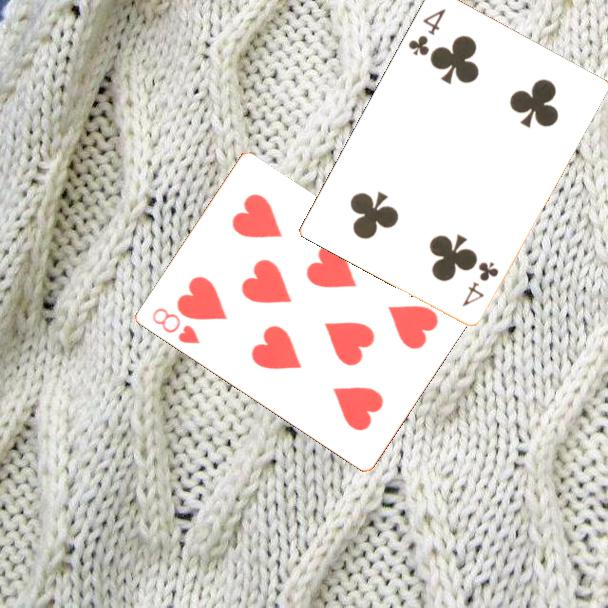c04: (404, 5, 449, 58), (458, 257, 501, 309)
h08: (148, 304, 203, 347)
